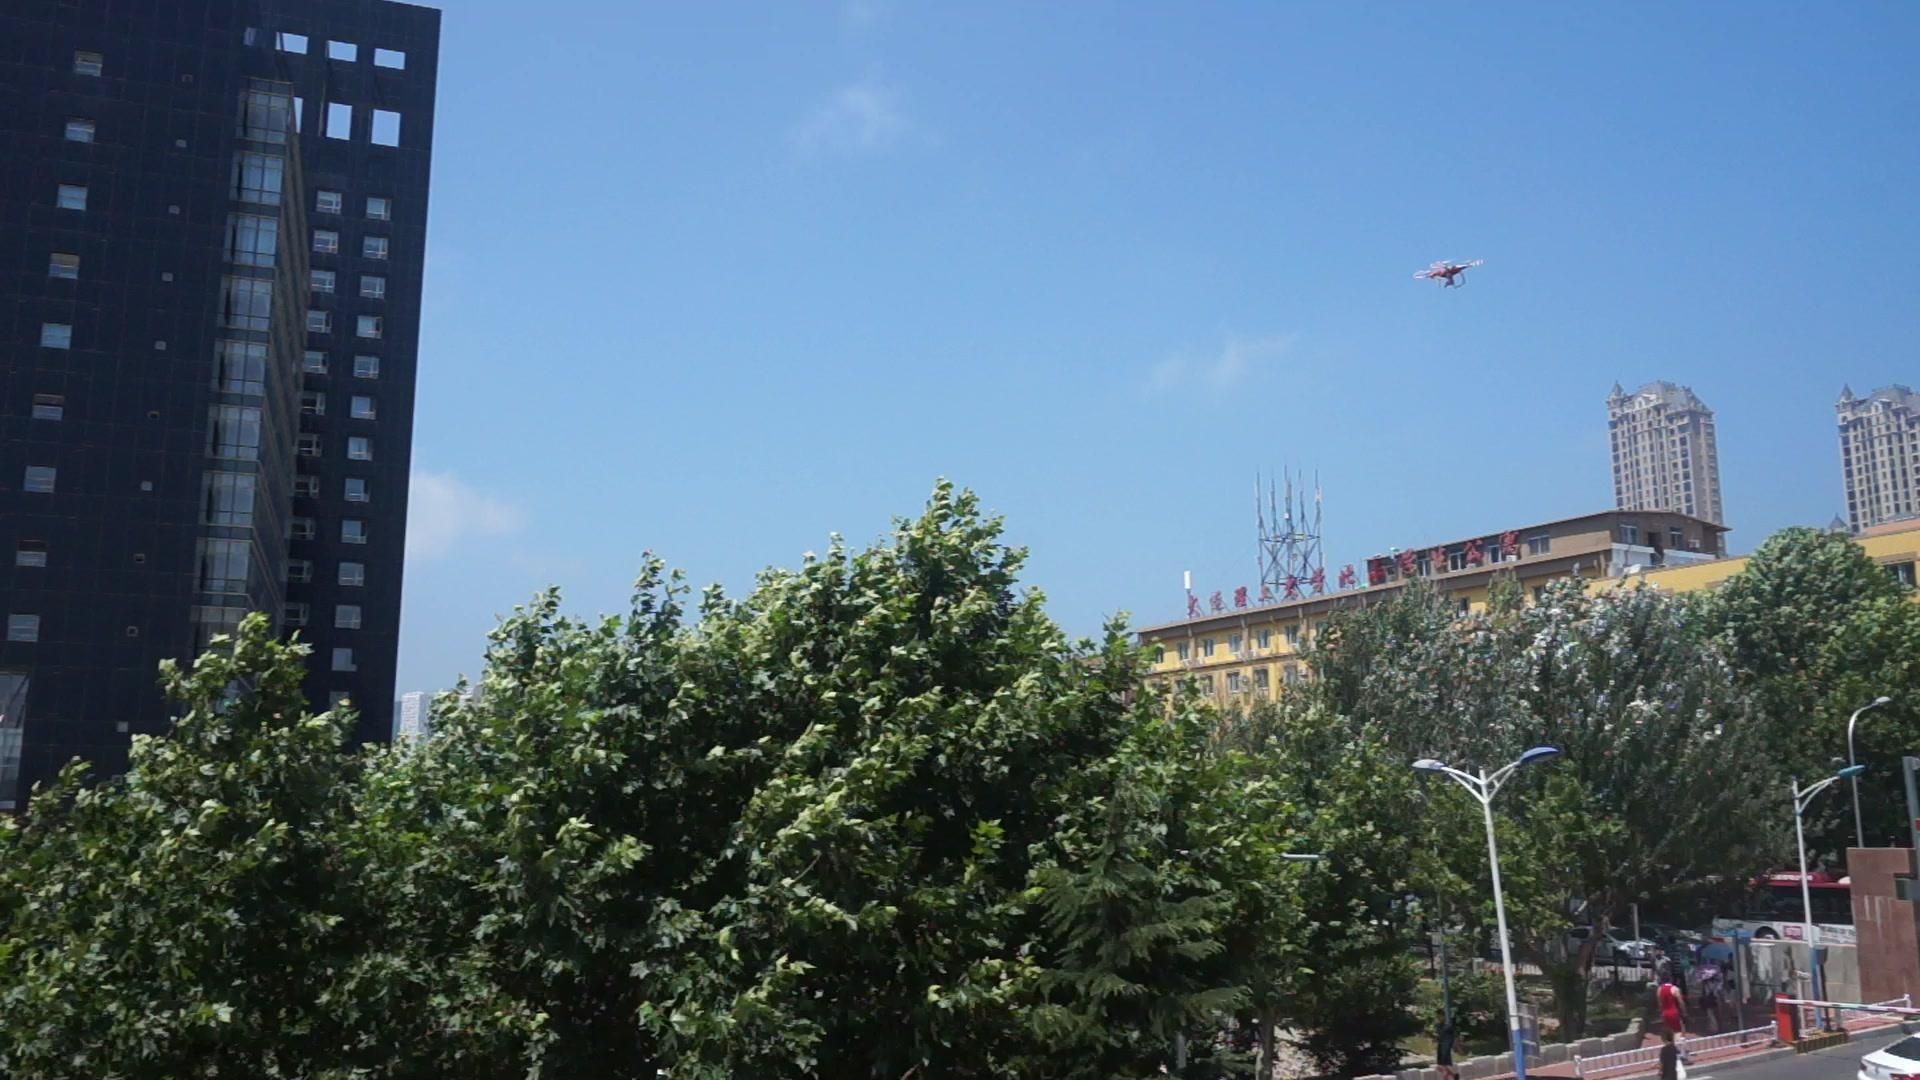UAV: (1414, 258, 1486, 290)
